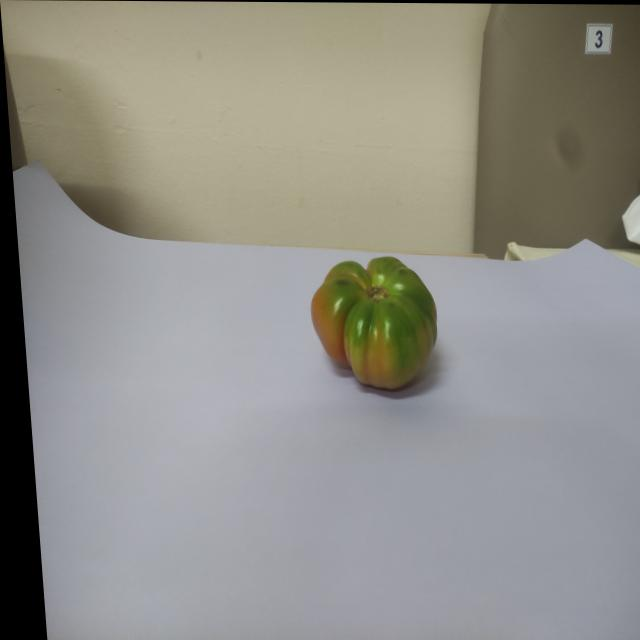yesil: (293, 232, 450, 395)
